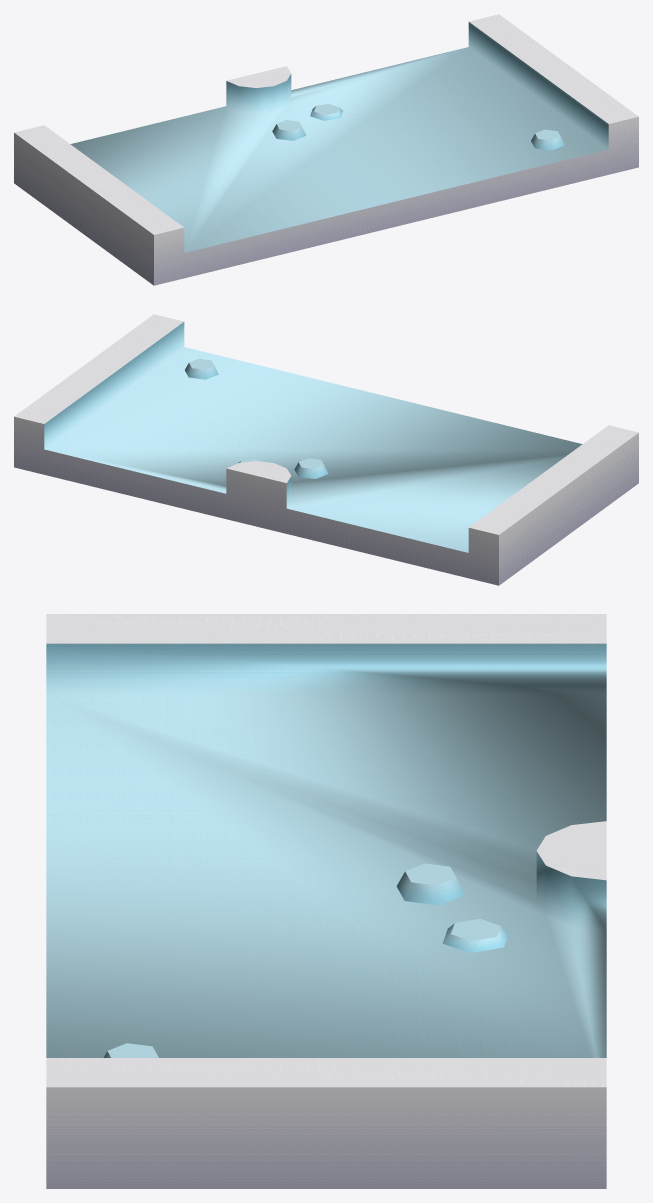
The model's file is snow-tile-wide-split.glb.
The picture shows the model from 3 angles, top to bottom: view 1: azimuth 30°, elevation 25°; view 2: azimuth 150°, elevation 25°; view 3: azimuth 270°, elevation 25°; orthographic projection. The views are drawn at different scales.
Parts seen in each view (by area): view 1: snow-tile-wide-split; view 2: snow-tile-wide-split; view 3: snow-tile-wide-split.
Boxes of the visible parts, x1,y1,x2,y2 form: snow-tile-wide-split: (14, 14, 638, 285); snow-tile-wide-split: (14, 314, 638, 585); snow-tile-wide-split: (46, 614, 606, 1188).
Size of the model in its own units: 2 by 0.2 by 1.
Materials: 1 (1 with a texture image).
